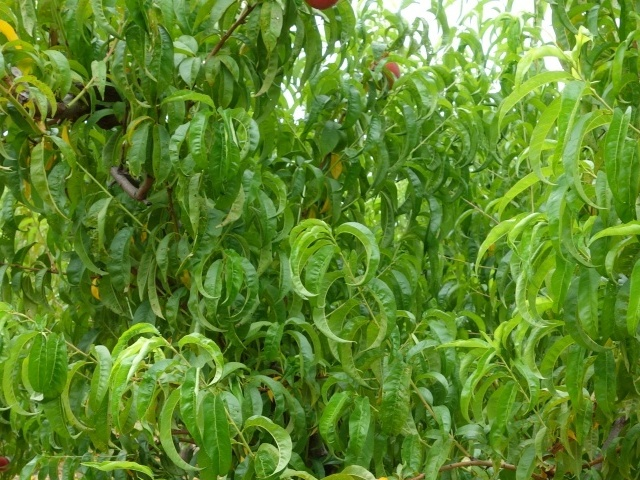peach: (375, 55, 405, 93), (300, 1, 341, 17)
